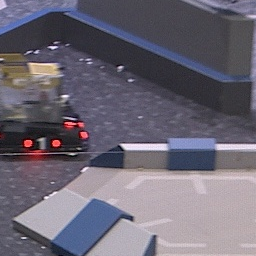Red: (23, 136, 60, 151), (60, 109, 83, 128)
Robot: (1, 57, 90, 157)
